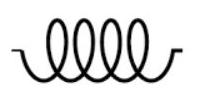inductor: (11, 17, 176, 90)
